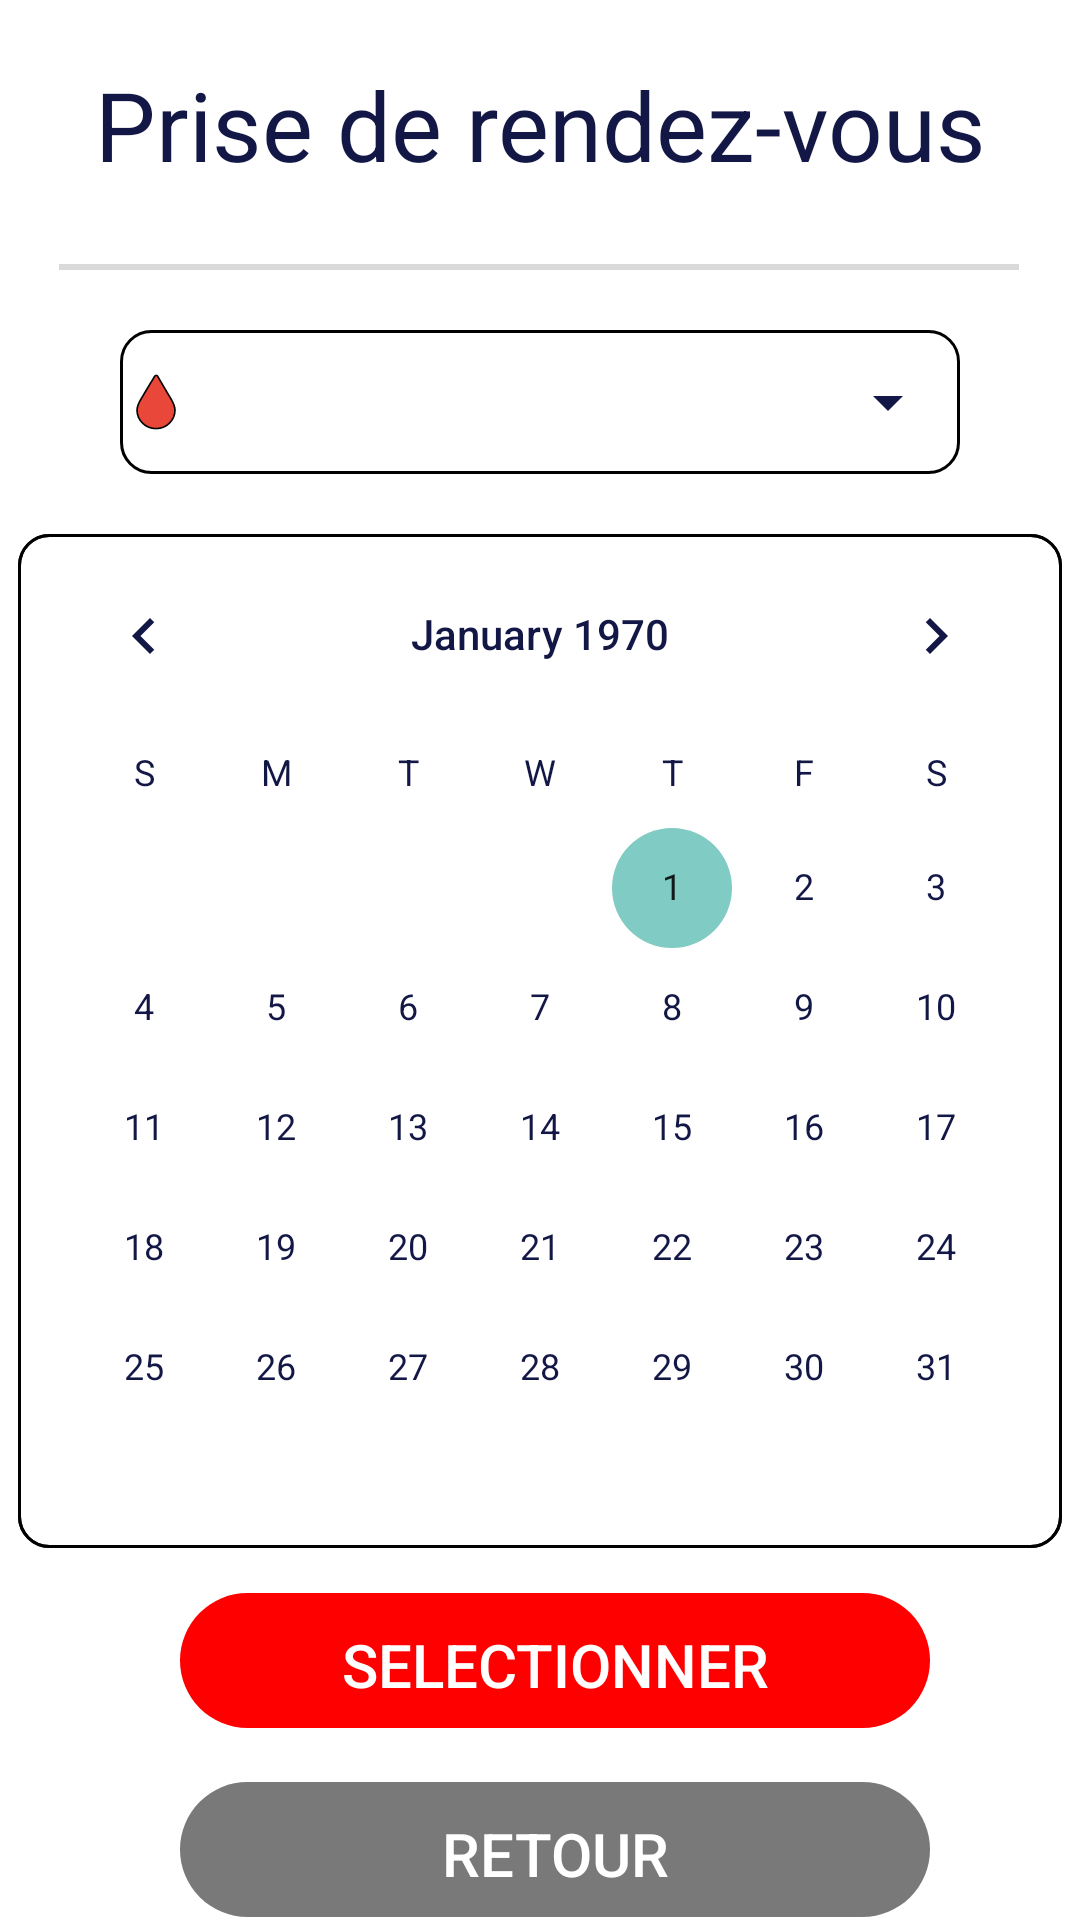

Where icons sit on this 1080px x 1920px app screen, as box(x1, y1, x2, y2):
blood: box(136, 374, 176, 430)
